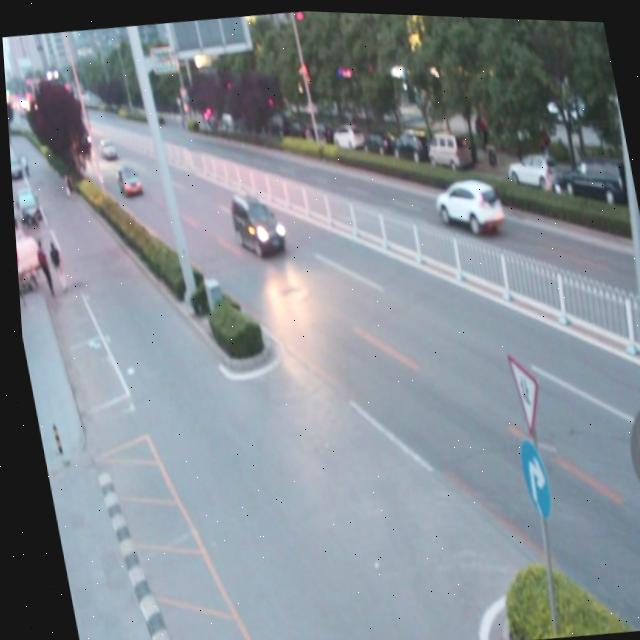car: (427, 169, 503, 234), (223, 187, 284, 258), (113, 161, 140, 196)
